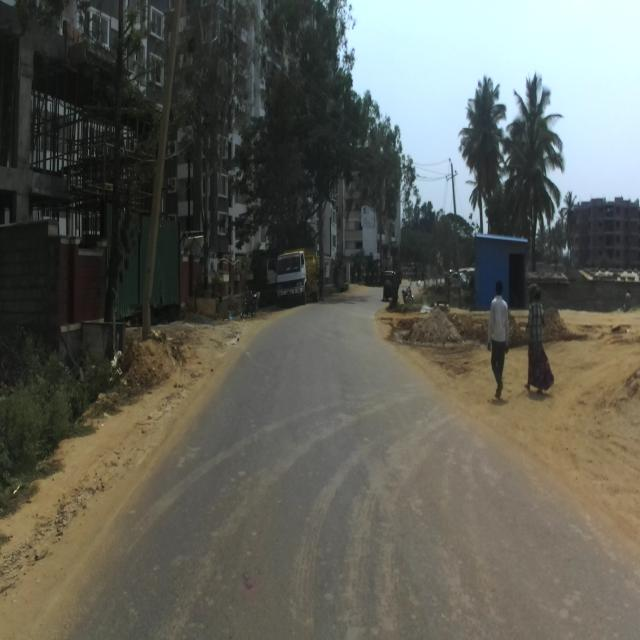person ahead at: (525, 277, 558, 403), (485, 271, 515, 402)
